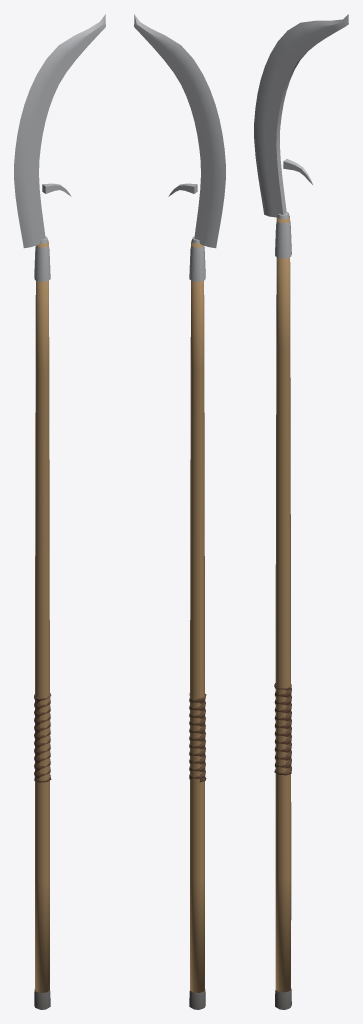
File: fauchard.glb
3 renders of one model, left to right at view 1: azimuth 30°, elevation 25°; view 2: azimuth 150°, elevation 25°; view 3: azimuth 330°, elevation 25°, orthographic. The views are drawn at different scales.
Visible parts, largest first — view 1: fauchard; view 2: fauchard; view 3: fauchard.
Boxes of the visible parts, x1,y1,x2,y2 form: fauchard: (14, 14, 105, 1009); fauchard: (134, 14, 225, 1009); fauchard: (254, 14, 348, 1009).
Bounding box in the file's own units: 0.57 × 5.82 × 0.0924.
